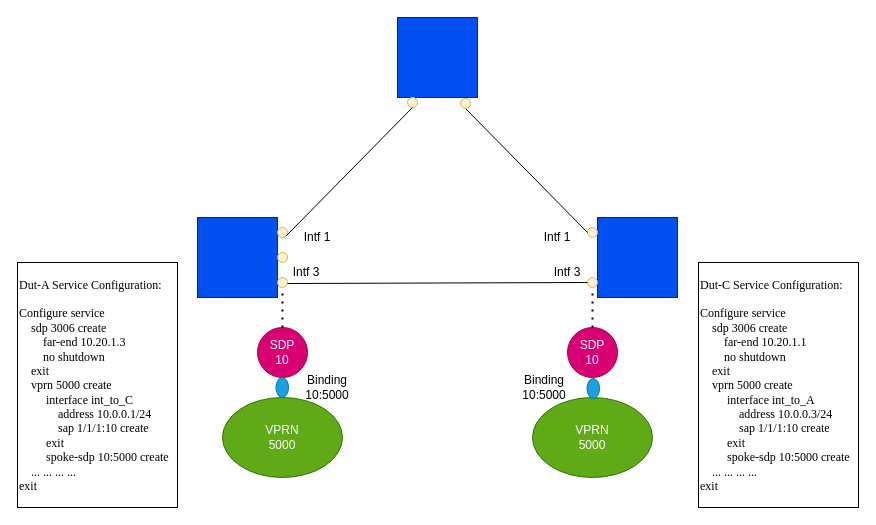
The diagram is 876 pixels wide and 525 high, and some of its shapes have lost their labels. The box of each missing label's shape, as (x1, y1, x2, y2) in pixels:
PE Router Dut-A: (196, 216, 278, 298)
PE Router Dut-B: (396, 16, 478, 98)
PE Router Dut-C: (596, 216, 678, 298)
